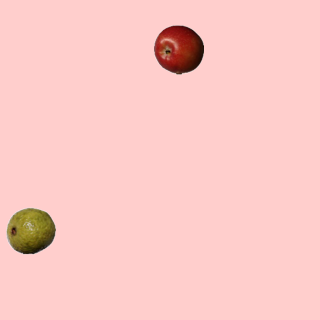Apple Braeburn: (153, 24, 203, 74)
Guava: (5, 205, 55, 255)
